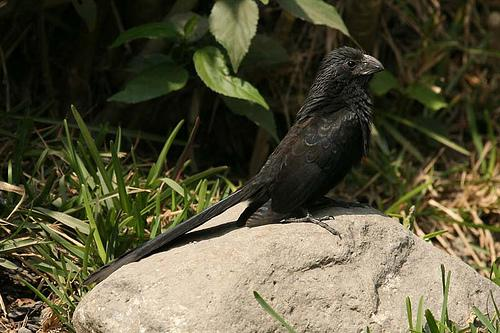004.Groove_billed_Ani: (85, 44, 385, 291)
